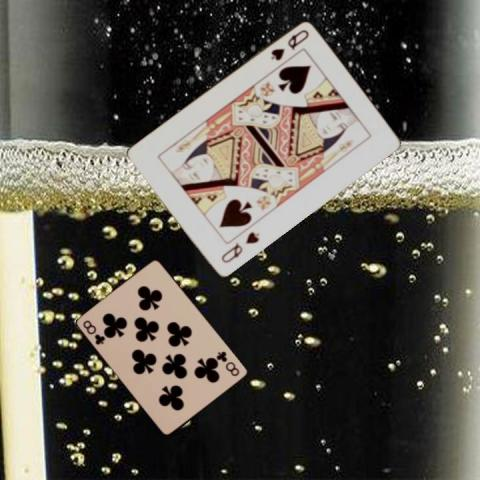8c: (214, 348, 241, 378), (80, 317, 107, 346)
Qs: (267, 25, 311, 62), (218, 228, 261, 265)
